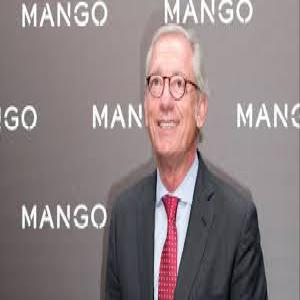mango: (19, 0, 109, 31), (18, 201, 107, 232), (155, 0, 253, 27), (89, 102, 144, 140), (235, 103, 300, 128), (1, 102, 38, 139)
